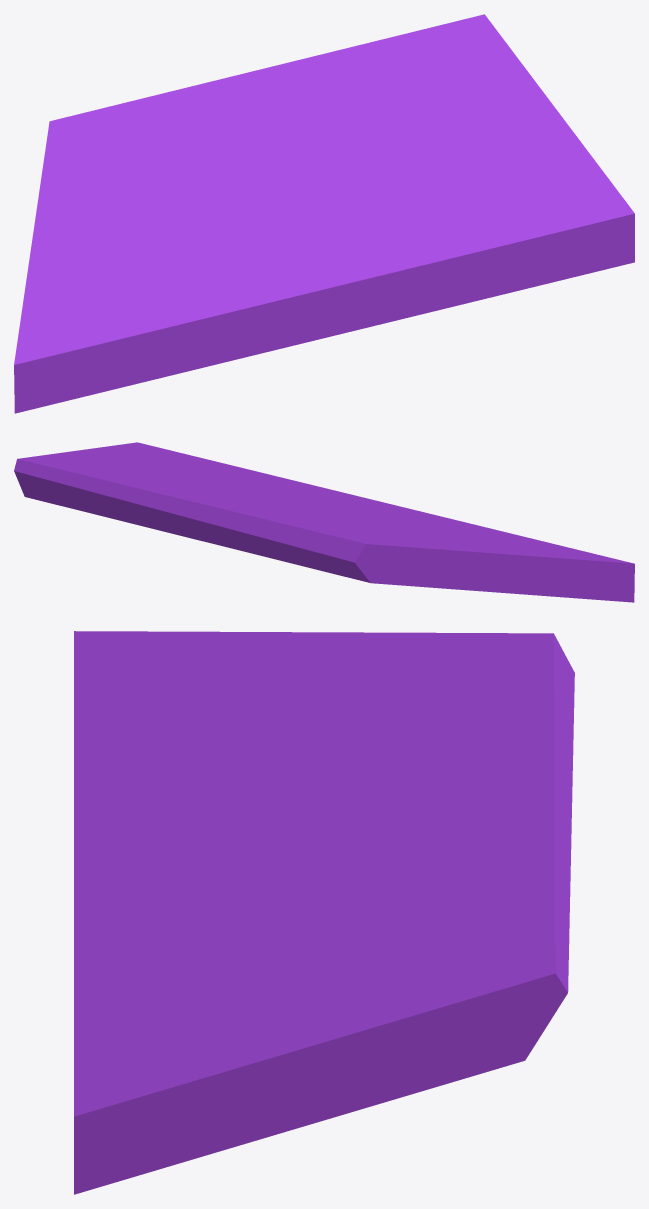
File: Window_146_2_chunks.fbx
The picture shows the model from 3 angles, top to bottom: view 1: azimuth 30°, elevation 25°; view 2: azimuth 150°, elevation 25°; view 3: azimuth 270°, elevation 25°; orthographic projection. The views are drawn at different scales.
Visible parts, largest first — view 1: Window_146_2_6, Window_146_2_10, Window_146_2_2, Window_146_2_4, Window_146_2_3, Window_146_2_12, Window_146_2_14, Window_146_2_16, Window_146_2_8, Window_146_2_11, Window_146_2_7, Window_146_2_9 (+6 smaller); view 2: Window_146_2_10, Window_146_2_8, Window_146_2_13, Window_146_2_19, Window_146_2_3, Window_146_2_6, Window_146_2_21, Window_146_2_1, Window_146_2_4, Window_146_2_2, Window_146_2_12, Window_146_2_7 (+7 smaller); view 3: Window_146_2_6, Window_146_2_4, Window_146_2_10, Window_146_2_2, Window_146_2_3, Window_146_2_8, Window_146_2_12, Window_146_2_7, Window_146_2_9, Window_146_2_19, Window_146_2_13, Window_146_2_5 (+5 smaller).
Part boxes in pixels (box(x1,y1,x2,y2)): Window_146_2_6: box(413, 45, 634, 267); Window_146_2_10: box(14, 249, 226, 413); Window_146_2_2: box(187, 149, 347, 355); Window_146_2_4: box(288, 122, 442, 308); Window_146_2_3: box(42, 107, 252, 204); Window_146_2_12: box(74, 179, 210, 267); Window_146_2_14: box(344, 224, 479, 332); Window_146_2_16: box(425, 202, 610, 287); Window_146_2_8: box(361, 14, 507, 95); Window_146_2_11: box(165, 235, 262, 367); Window_146_2_7: box(179, 99, 363, 159); Window_146_2_9: box(302, 45, 410, 119); Window_146_2_10: box(453, 522, 634, 602); Window_146_2_8: box(14, 456, 153, 528); Window_146_2_13: box(412, 542, 528, 594); Window_146_2_19: box(202, 505, 319, 566); Window_146_2_3: box(284, 508, 421, 562); Window_146_2_6: box(36, 442, 231, 478); Window_146_2_21: box(124, 487, 220, 536); Window_146_2_1: box(304, 553, 437, 587); Window_146_2_4: box(194, 476, 372, 502); Window_146_2_2: box(274, 500, 434, 523); Window_146_2_12: box(376, 521, 472, 542); Window_146_2_7: box(192, 486, 300, 520); Window_146_2_6: box(74, 930, 483, 1194); Window_146_2_4: box(74, 830, 396, 959); Window_146_2_10: box(74, 631, 274, 797); Window_146_2_2: box(74, 754, 395, 885); Window_146_2_3: box(315, 633, 574, 800); Window_146_2_8: box(427, 875, 570, 1071); Window_146_2_12: box(197, 659, 423, 775); Window_146_2_7: box(357, 738, 477, 886); Window_146_2_9: box(400, 835, 559, 922); Window_146_2_19: box(484, 680, 574, 815); Window_146_2_13: box(271, 632, 454, 682); Window_146_2_5: box(316, 884, 487, 1088).
Bounding box in the file's own units: 1336 × 284 × 582.
